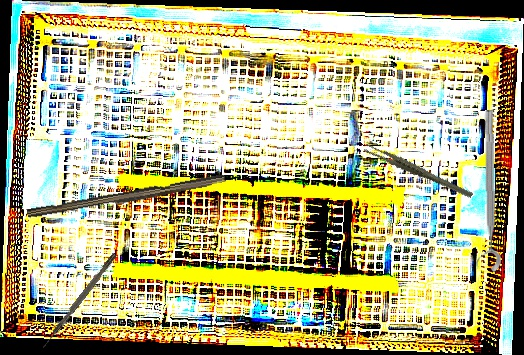Fixation Ring: (471, 110, 501, 273)
Hook Surgical: (40, 252, 118, 350)
Scalpel Handle: (26, 170, 227, 225)
Tissue Forceps: (362, 126, 474, 217)
